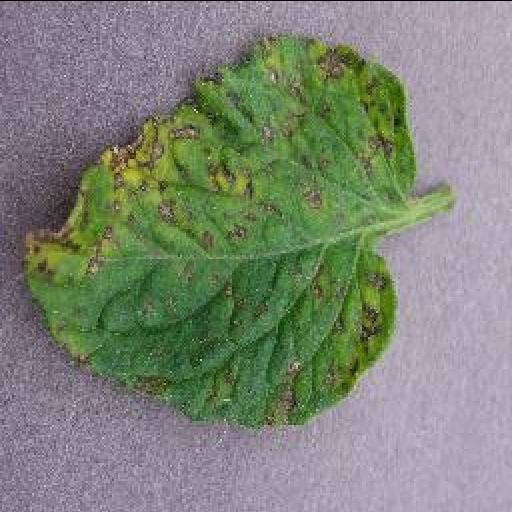disease_tomato: (23, 33, 413, 422)
